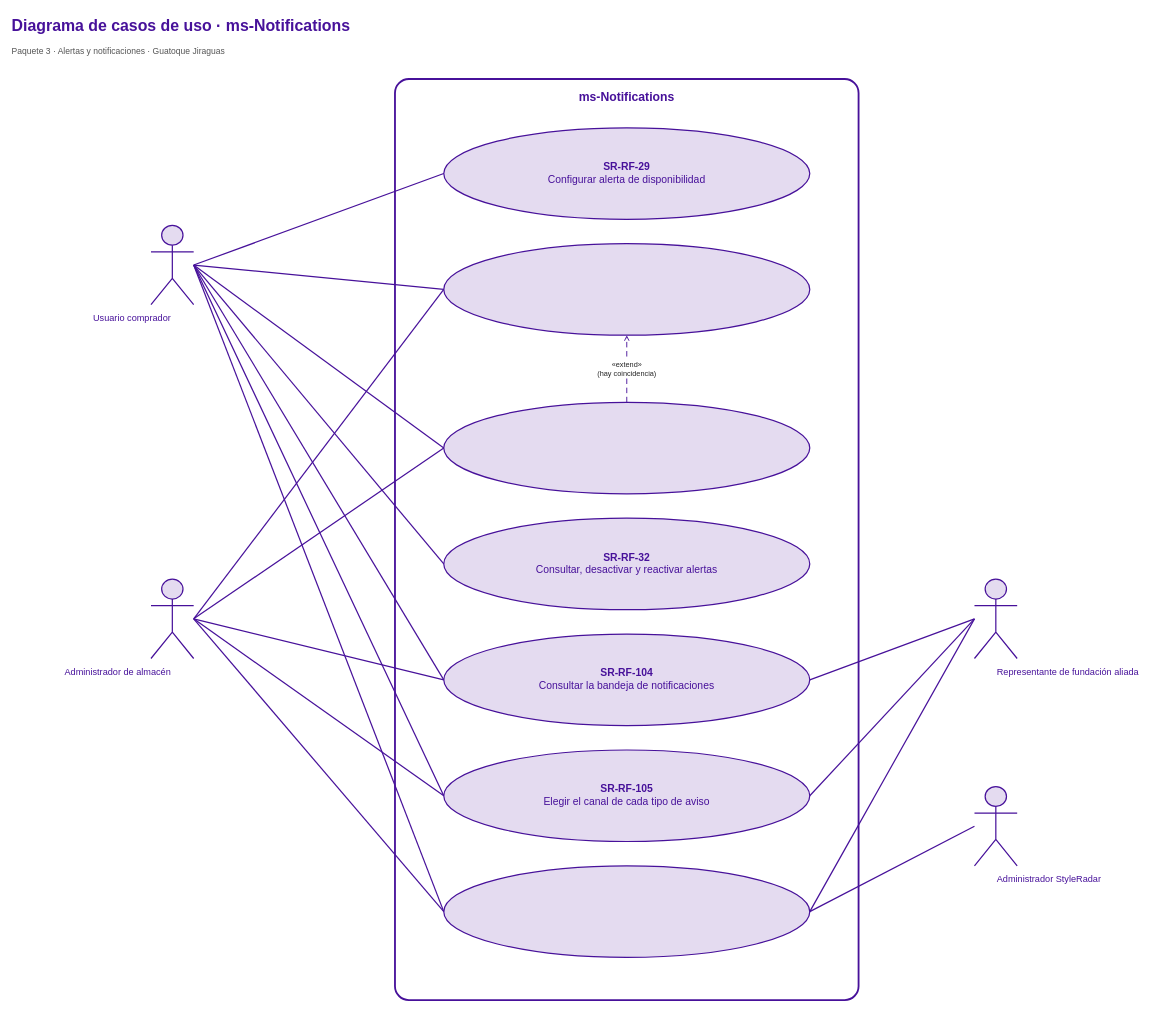
Image size: 1164x1011. Some labels were removed from this diagram. Each missing label, with the centre of its shape:
"SR-RF-106 Avisar la actividad de otros módulos" belongs at point (626, 911).
"SR-RF-30 Detectar prendas que coinciden con una alerta" belongs at point (626, 289).
"SR-RF-31 Notificar coincidencia o reposición de una prenda" belongs at point (626, 447).
